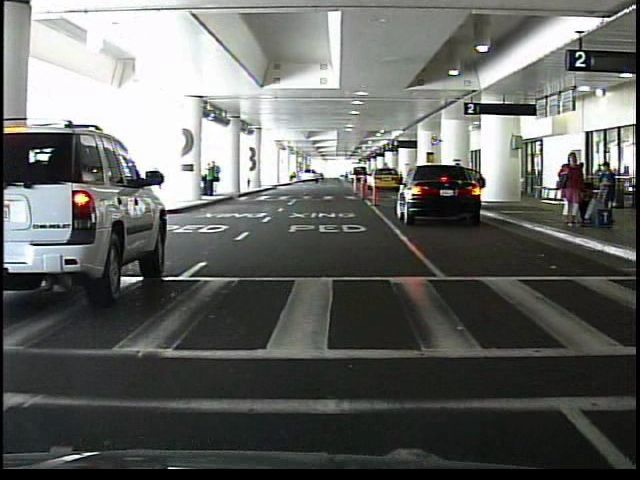person: (556, 152, 589, 227), (593, 161, 616, 228), (575, 159, 586, 201), (204, 161, 216, 198), (213, 161, 222, 196)
